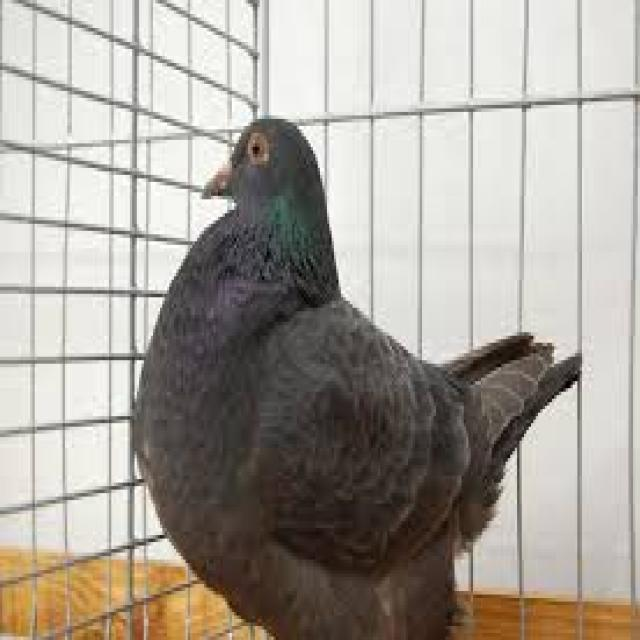pigeon: (115, 105, 564, 640)
